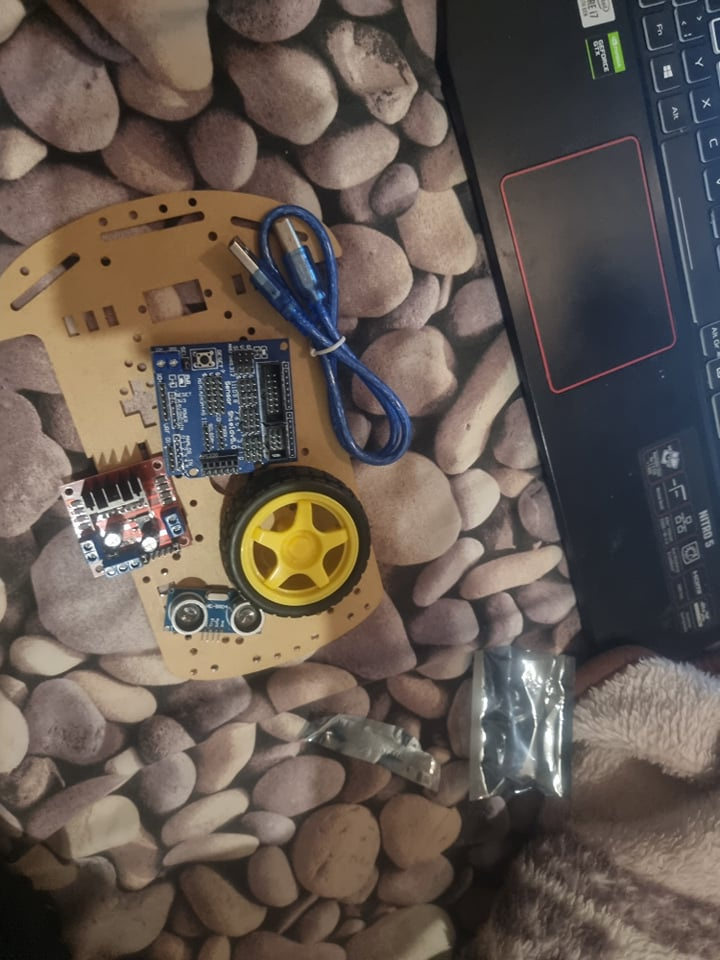5V EXPANSION: (150, 331, 298, 481)
MOTOR: (56, 454, 192, 584)
SENSOR: (159, 585, 268, 640)
